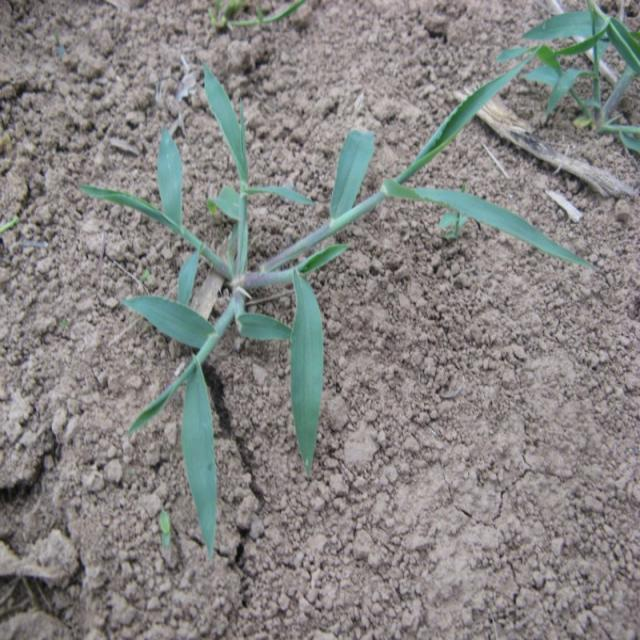bg: (72, 56, 613, 559)
